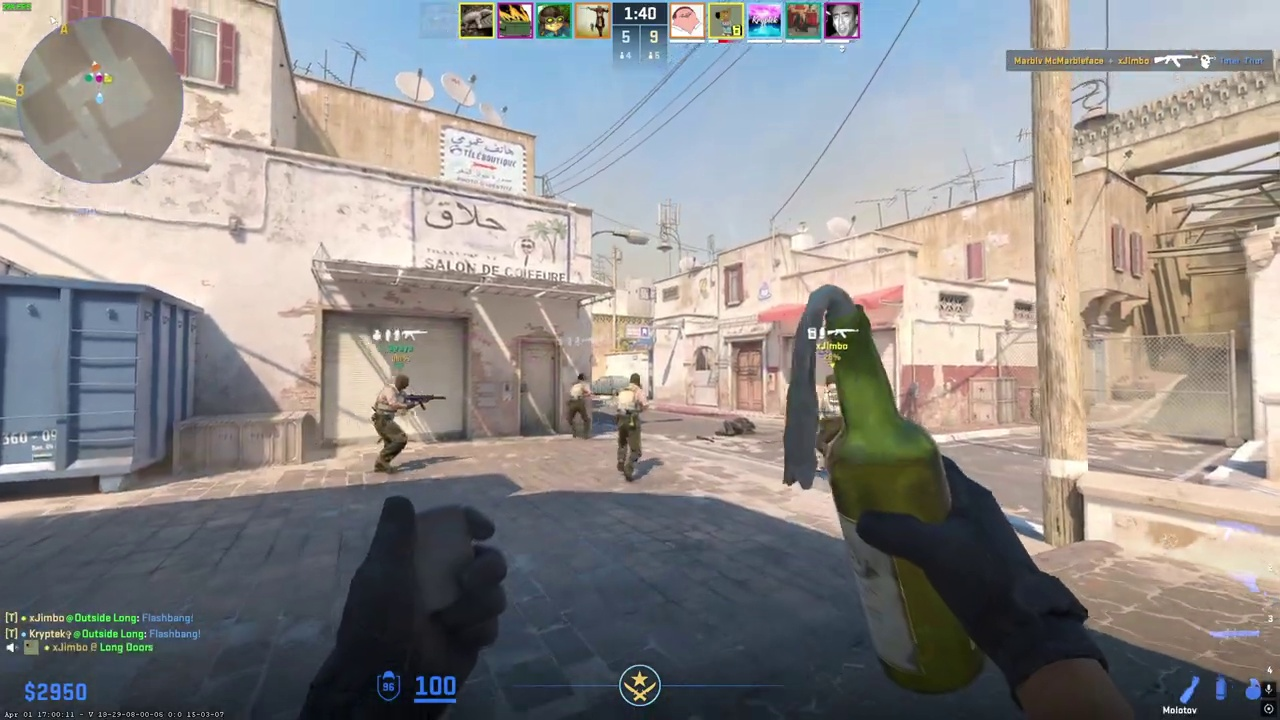Terrorist: (374, 374, 415, 472), (616, 373, 647, 482), (817, 375, 843, 459), (566, 373, 592, 438)
